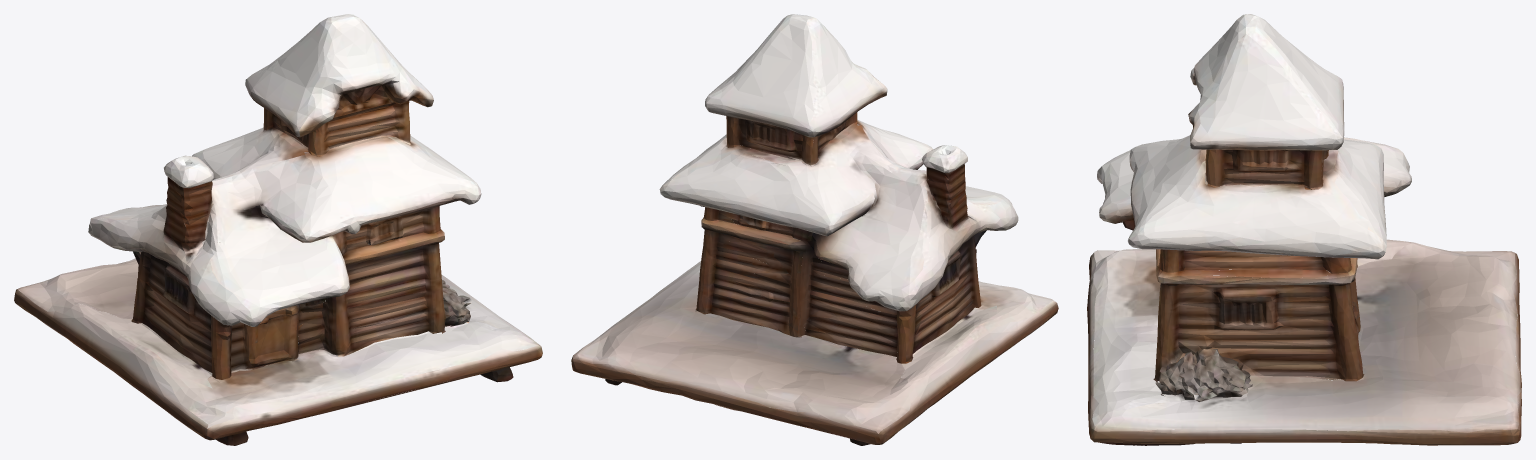
Rendered from wt-outpost-blockhouse.glb.
3 views of the same model, side by side, from view 1: azimuth 30°, elevation 25°; view 2: azimuth 150°, elevation 25°; view 3: azimuth 270°, elevation 25° (orthographic). The views are drawn at different scales.
Parts seen in each view (by area): view 1: tmpw57ujfh8.ply; view 2: tmpw57ujfh8.ply; view 3: tmpw57ujfh8.ply.
Part boxes in pixels (bbox=[...]): tmpw57ujfh8.ply: bbox=[14, 14, 542, 445]; tmpw57ujfh8.ply: bbox=[571, 14, 1058, 445]; tmpw57ujfh8.ply: bbox=[1087, 14, 1521, 445].
Bounding box in the file's own units: 5.68 × 5.41 × 5.73.
Materials: 1 (1 with a texture image).
